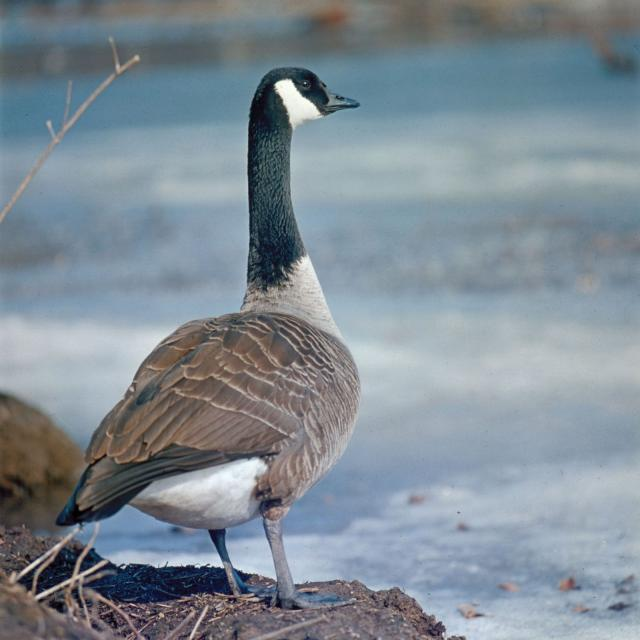Goose: (58, 55, 376, 611)
